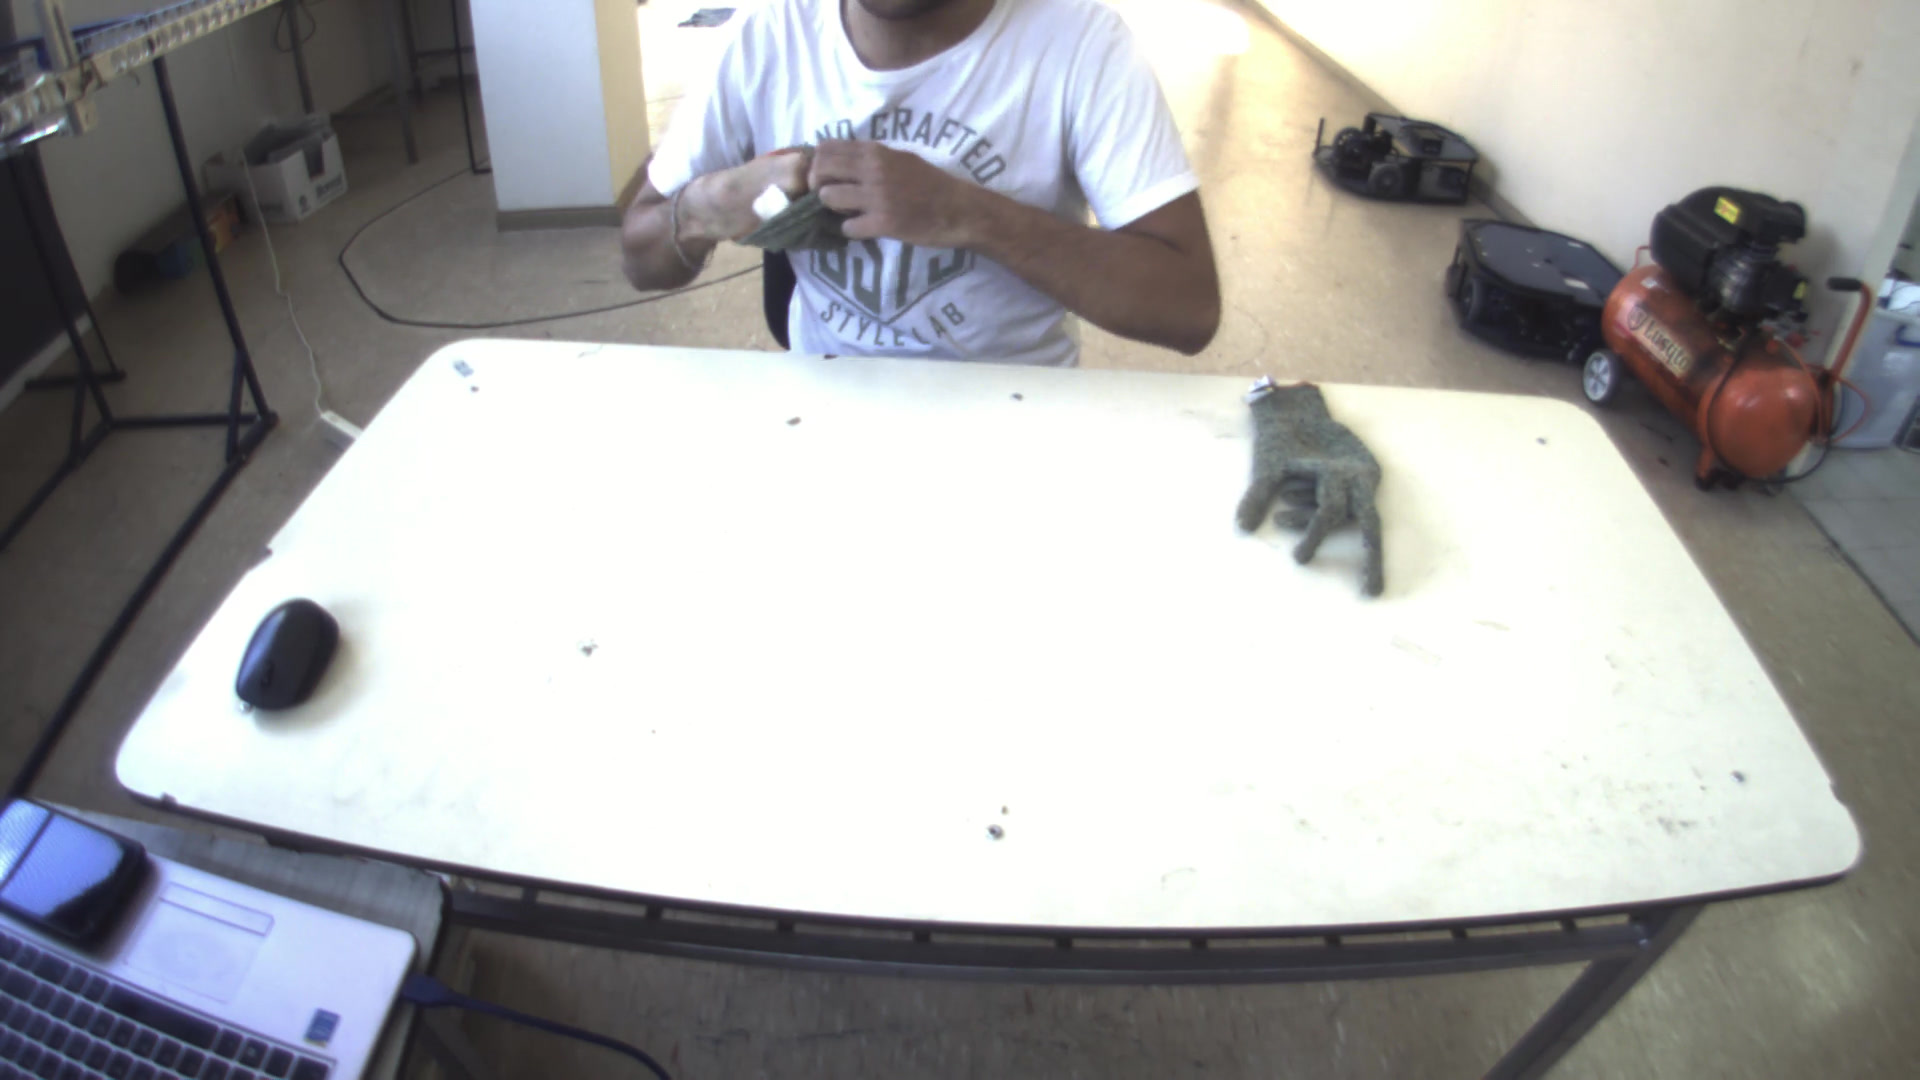hand: (802, 137, 967, 258), (679, 132, 814, 265)
